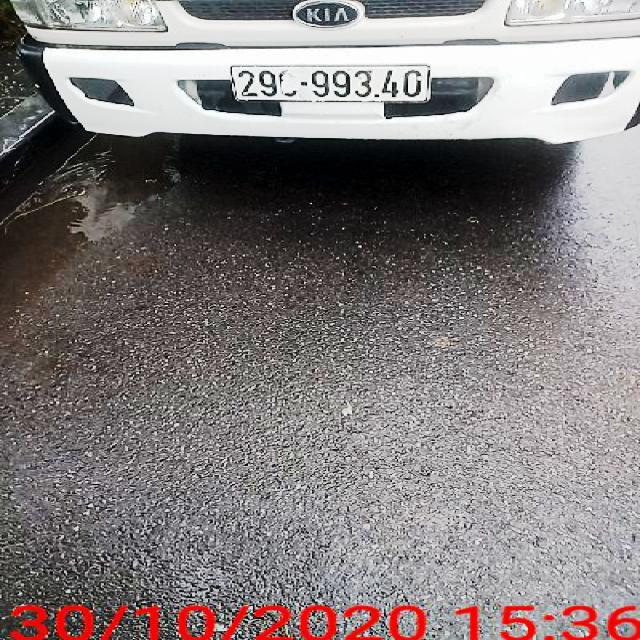license_plate: (232, 63, 427, 100)
